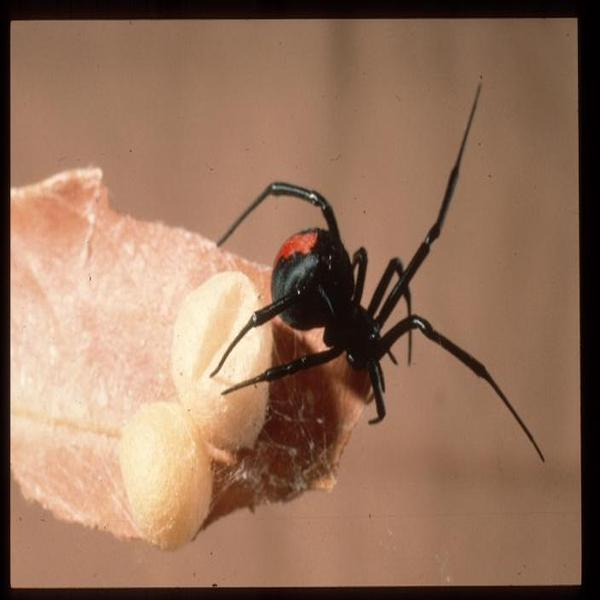Redback Spider: (222, 81, 546, 461)
